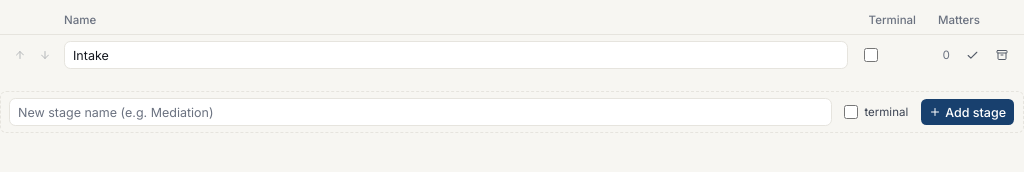
Test: stage forms after a server validation error › StageRow keeps the edited name and terminal checkbox
The width and height of the screenshot is (1024, 172).
Replace the text in the field showing "Intake" with "Dup": (456,55) x1=64 y1=41 x2=848 y2=69
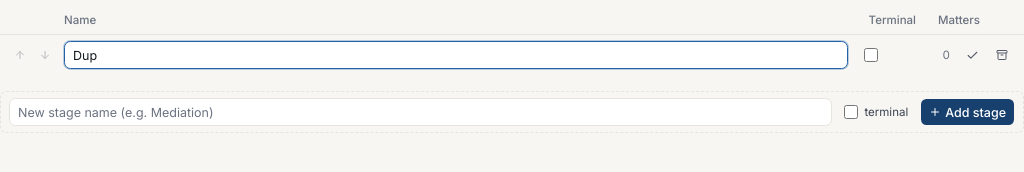
Click the checkbox named "Intake is terminal": (871,55) x1=864 y1=48 x2=878 y2=62
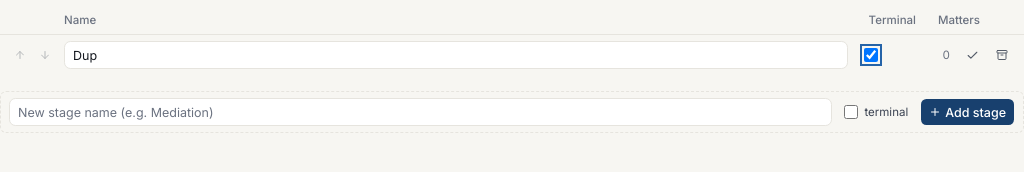
Click the button titled "save changes": (972,55) x1=958 y1=41 x2=986 y2=69
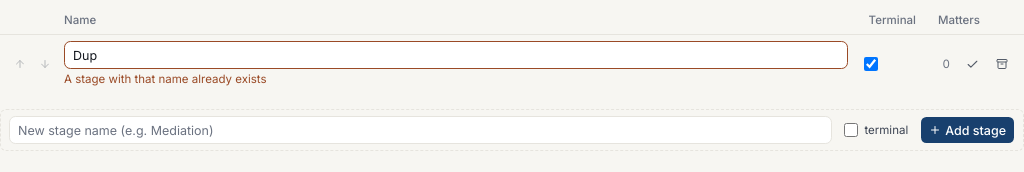
Now the checkbox named "Intake is terminal" is checked, box x1=864 y1=57 x2=878 y2=71
Now the text "A stage with that name already exists" is shown, box x1=64 y1=72 x2=266 y2=86
